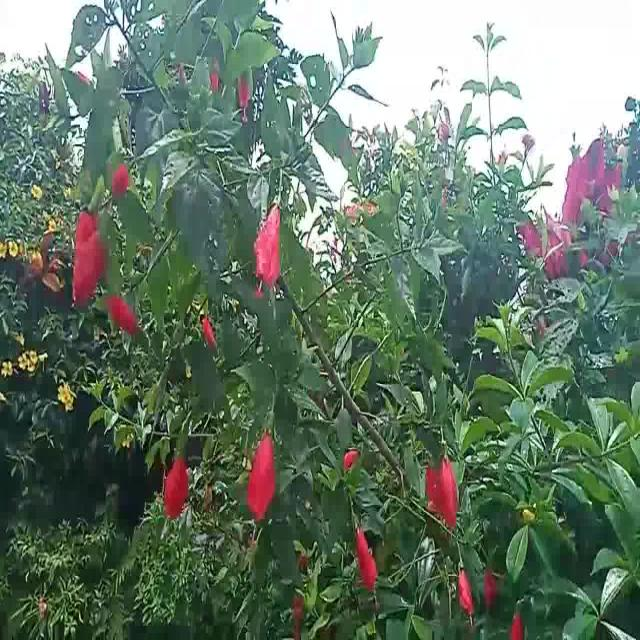Flower: (252, 189, 284, 304), (244, 418, 278, 525), (72, 202, 104, 309), (426, 445, 462, 527), (350, 516, 384, 594), (162, 444, 193, 526), (106, 292, 148, 351), (457, 560, 479, 626), (109, 159, 133, 198), (237, 68, 254, 122), (200, 315, 220, 354)
